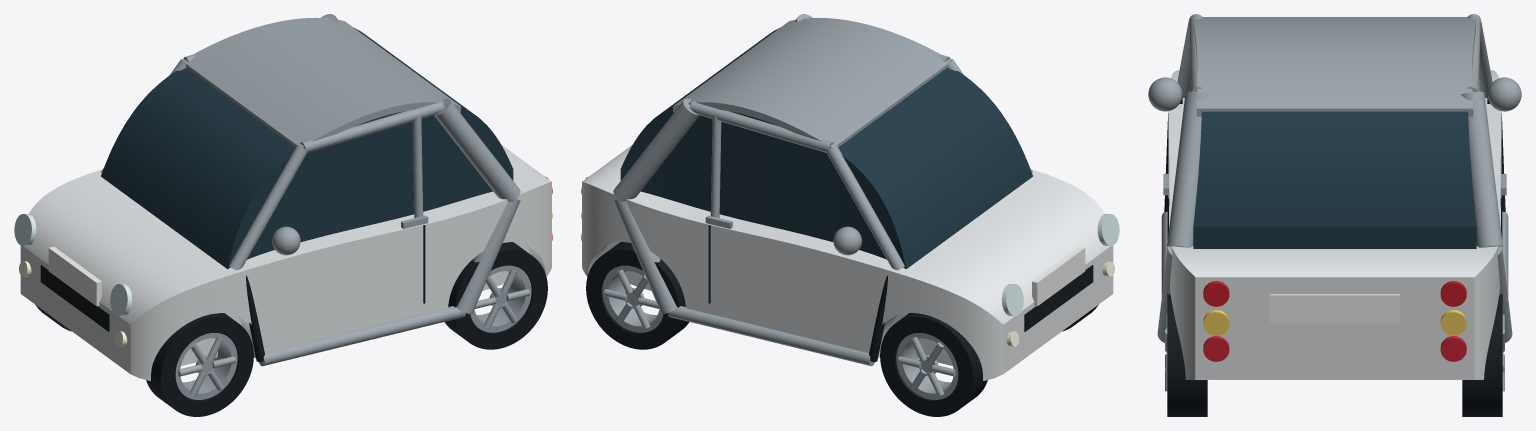
Rendered from smart_fortwo.glb.
The picture shows the model from 3 angles, left to right: view 1: azimuth 30°, elevation 25°; view 2: azimuth 150°, elevation 25°; view 3: azimuth 270°, elevation 25°; orthographic projection. The views are drawn at different scales.
Visible parts, largest first — view 1: smart_fortwo (×6); view 2: smart_fortwo (×6); view 3: smart_fortwo (×8).
Part boxes in pixels (bbox=[...]): smart_fortwo (×6): bbox=[14, 14, 551, 416]; smart_fortwo (×6): bbox=[582, 14, 1119, 416]; smart_fortwo (×8): bbox=[1148, 14, 1521, 416].
Bounding box in the file's own units: 2.77 × 1.58 × 1.75.
